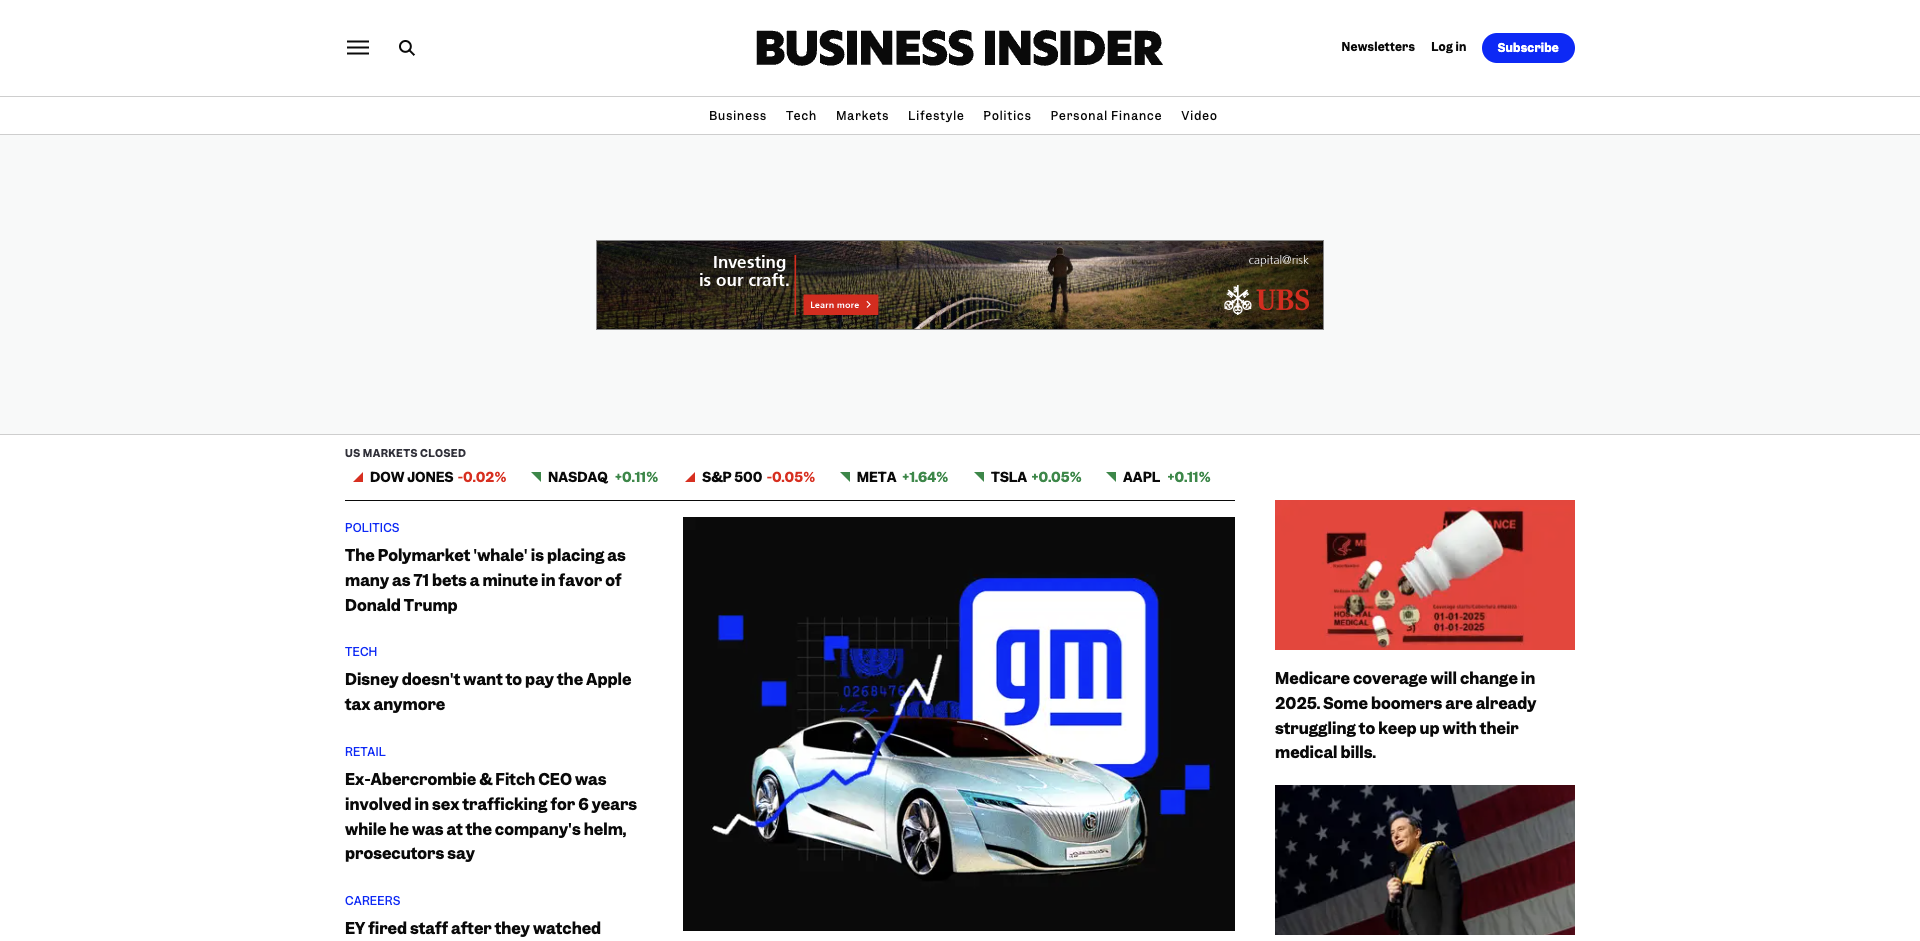button: (1482, 33, 1575, 62), (1422, 39, 1477, 56), (1431, 39, 1467, 56), (345, 39, 369, 56)
dropdown: (697, 123, 906, 497), (773, 123, 983, 396), (895, 123, 1106, 396), (823, 123, 1033, 361), (1168, 123, 1379, 361), (1038, 123, 1248, 328), (971, 123, 1180, 260), (711, 221, 891, 245), (711, 255, 891, 279), (711, 357, 891, 381), (711, 391, 891, 415), (789, 221, 969, 245), (789, 255, 969, 279), (789, 357, 969, 381), (839, 221, 1019, 245), (839, 255, 1019, 279), (910, 221, 1090, 245), (910, 255, 1090, 279), (910, 357, 1090, 381), (986, 221, 1166, 245), (1053, 221, 1233, 245), (1053, 255, 1233, 279), (1183, 221, 1363, 245), (1183, 255, 1363, 279), (711, 153, 891, 176), (711, 187, 891, 211), (711, 289, 891, 312), (711, 323, 891, 347), (711, 425, 891, 448), (711, 459, 891, 483), (789, 153, 969, 176), (789, 187, 969, 211), (789, 289, 969, 312), (789, 323, 969, 347), (839, 153, 1019, 176), (839, 187, 1019, 211), (839, 289, 1019, 312), (839, 323, 1019, 347), (910, 153, 1090, 176), (910, 187, 1090, 211), (910, 289, 1090, 312), (910, 323, 1090, 347), (986, 153, 1166, 176), (986, 187, 1166, 211), (1053, 153, 1233, 176), (1053, 187, 1233, 211), (1053, 289, 1233, 312), (1183, 153, 1363, 176), (1183, 187, 1363, 211), (1183, 289, 1363, 312), (1183, 323, 1363, 347)
icon: (399, 39, 415, 55)
link: (683, 517, 1236, 931), (1275, 500, 1575, 649), (1275, 785, 1575, 935), (345, 769, 637, 864), (1275, 668, 1537, 762), (345, 545, 626, 615), (749, 31, 1171, 66), (345, 669, 632, 714), (345, 918, 643, 941), (345, 463, 516, 493), (523, 463, 670, 493), (677, 463, 824, 493), (831, 463, 958, 493), (966, 463, 1090, 493), (1098, 463, 1222, 493), (1051, 105, 1162, 127), (711, 466, 868, 480), (986, 159, 1106, 174), (345, 447, 476, 459), (789, 295, 887, 310), (789, 227, 878, 243), (711, 431, 808, 446), (910, 159, 1005, 174), (1183, 227, 1269, 243), (839, 227, 923, 243), (1183, 295, 1270, 310), (709, 105, 767, 127), (909, 105, 965, 127), (1053, 194, 1136, 208), (1183, 159, 1265, 174), (836, 105, 889, 127), (711, 295, 786, 310), (789, 363, 857, 379), (1342, 39, 1416, 54), (983, 105, 1032, 127), (711, 397, 784, 412), (839, 295, 911, 310), (1183, 330, 1254, 344), (986, 227, 1051, 243), (789, 261, 857, 276), (1053, 295, 1122, 310), (1183, 194, 1251, 208), (1183, 261, 1251, 276), (910, 330, 973, 344), (1053, 227, 1112, 243), (711, 194, 770, 208), (910, 363, 962, 379), (711, 159, 768, 174), (789, 330, 845, 344), (1182, 105, 1218, 127), (711, 227, 762, 243), (711, 330, 764, 344), (1053, 159, 1104, 174), (789, 159, 839, 174), (910, 194, 960, 208), (839, 194, 885, 208), (786, 105, 817, 127), (345, 894, 400, 907), (910, 227, 951, 243), (345, 521, 399, 533), (839, 261, 883, 276), (839, 159, 882, 174), (910, 295, 953, 310), (711, 363, 749, 379), (1053, 261, 1091, 276), (711, 261, 748, 276), (345, 745, 386, 757), (910, 261, 942, 276), (839, 330, 869, 344), (345, 646, 377, 658), (986, 194, 1011, 208), (399, 39, 415, 55), (789, 194, 801, 208)
